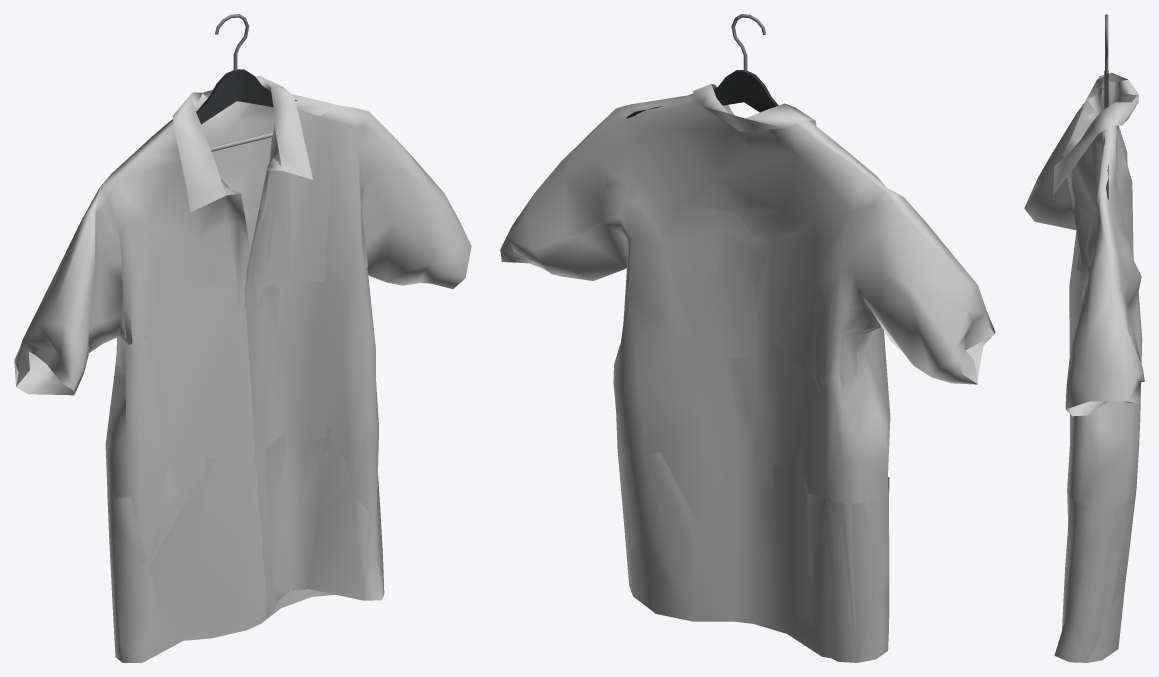
The model's file is dressshirt_SS.FBX.
The picture shows the model from 3 angles, left to right: view 1: azimuth 30°, elevation 25°; view 2: azimuth 150°, elevation 25°; view 3: azimuth 270°, elevation 25°; orthographic projection. The views are drawn at different scales.
Parts seen in each view (by area): view 1: dressshirt_SS_LOD0, _Hanger-3_LOD0; view 2: dressshirt_SS_LOD0, _Hanger-3_LOD0; view 3: dressshirt_SS_LOD0, _Hanger-3_LOD0.
Boxes of the visible parts, x1,y1,x2,y2 form: dressshirt_SS_LOD0: (14,76,471,662); _Hanger-3_LOD0: (196,14,297,151); dressshirt_SS_LOD0: (500,83,995,662); _Hanger-3_LOD0: (626,14,778,118); dressshirt_SS_LOD0: (1024,72,1144,662); _Hanger-3_LOD0: (1104,14,1108,199).
Size of what is drawn, in the model's own units: 63.07 by 14.84 by 80.94.
